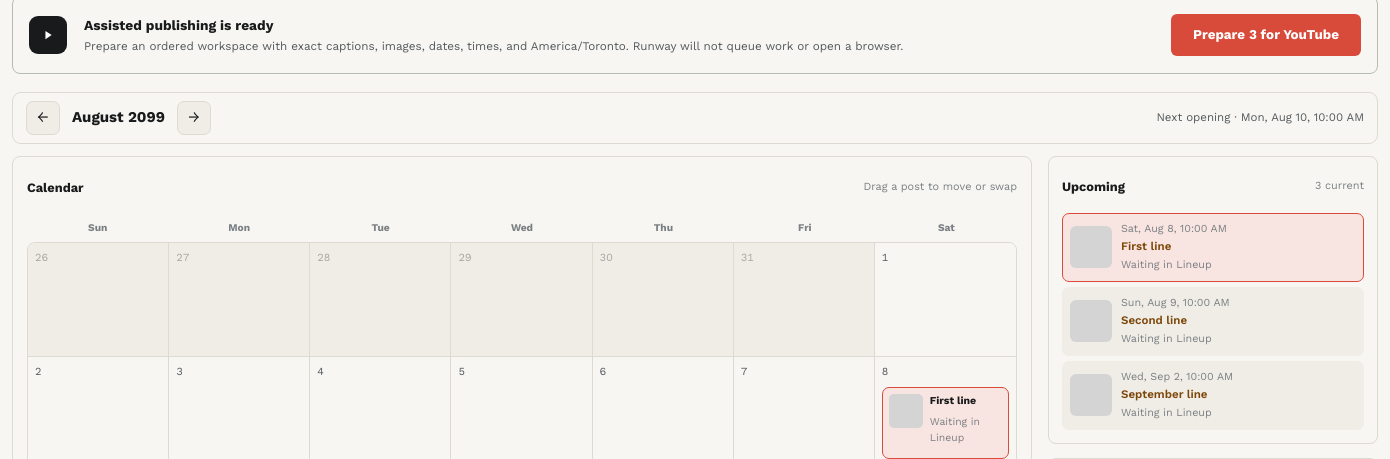
it: LineupCalendar › keeps the calendar month synchronized with the selected upcoming post
Expected: the text "August 2099" is shown, left=72, top=106, right=165, bottom=129
Click the button "Wed, Sep 2, 10:00 AM September line Waiting in Lineup": x=1091, y=395 left=1062, top=361, right=1364, bottom=430
(page scrolled)
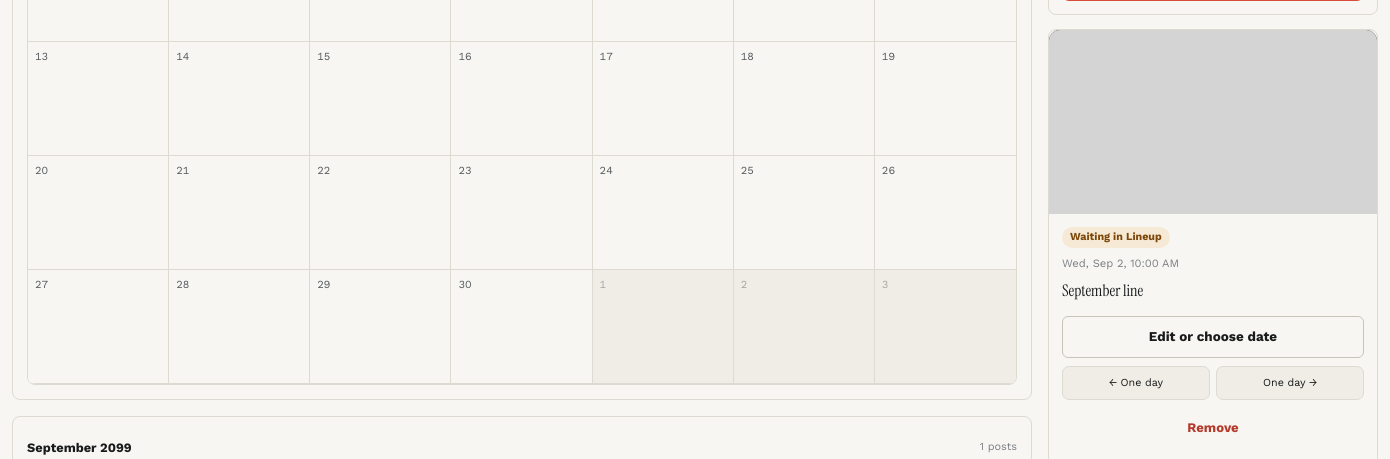
Expected: the element named "Selected post" shows "September line", left=1062, top=280, right=1143, bottom=301
